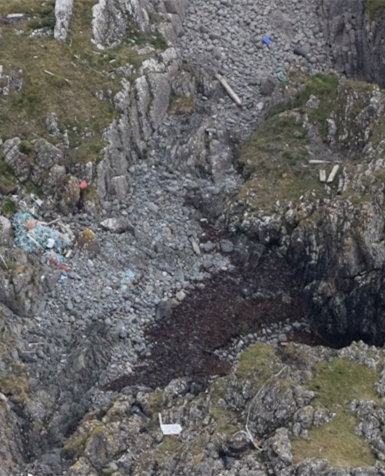net: (6, 206, 82, 277)
straight_bar: (213, 68, 248, 111)
white_in_green: (136, 395, 198, 453), (59, 163, 107, 209), (244, 15, 292, 61)
